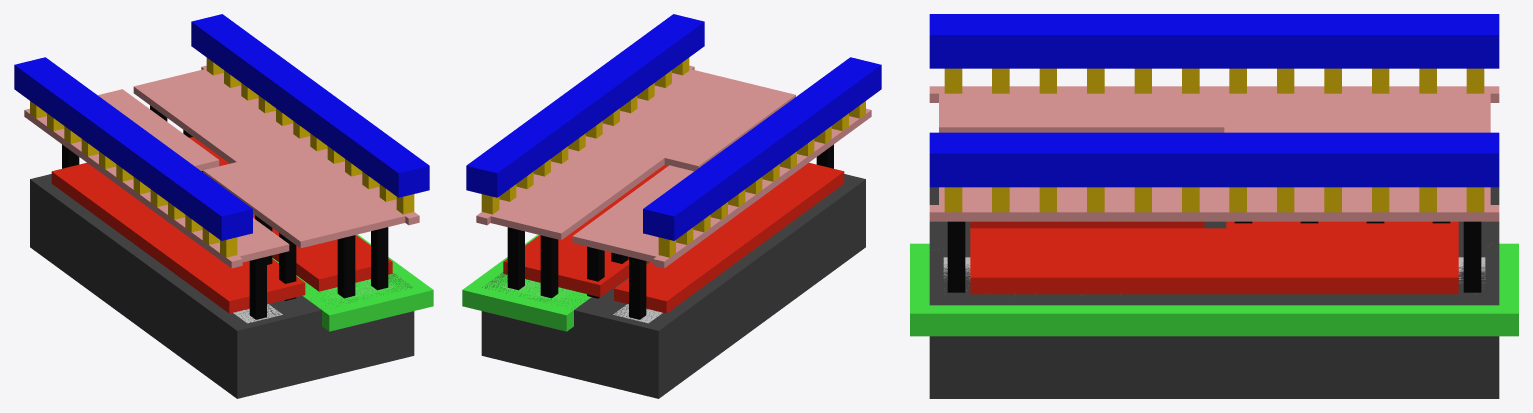
Rendered from sky130_fd_sc_hd__decap_12.obj.
3 views of the same model, side by side, from view 1: azimuth 30°, elevation 25°; view 2: azimuth 150°, elevation 25°; view 3: azimuth 270°, elevation 25° (orthographic). The views are drawn at different scales.
Parts seen in each view (by area): view 1: subs, li, metal1, poly, mcon, licon, nwell; view 2: subs, li, metal1, poly, mcon, nwell, licon; view 3: metal1, subs, li, poly, nwell, mcon, licon.
Boxes of the visible parts, x1,y1,x2,y2 form: subs: (30,174,414,398); li: (24,65,419,268); metal1: (14,14,429,240); poly: (51,137,392,313); mcon: (30,58,414,257); licon: (62,105,388,319); nwell: (272,234,433,331); subs: (481,174,865,398); li: (476,65,871,268); metal1: (466,14,881,240); poly: (503,162,844,313); mcon: (481,58,865,257); nwell: (462,234,591,331); licon: (507,144,833,319); metal1: (929,14,1499,187); subs: (929,187,1499,398); li: (929,86,1499,221); poly: (970,221,1458,294); nwell: (910,243,1518,336); mcon: (944,68,1484,212); licon: (947,221,1481,292).
Size of the model in its own units: 3.2 by 2.74 by 5.9.
